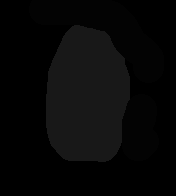fp: (44, 24, 129, 164)
